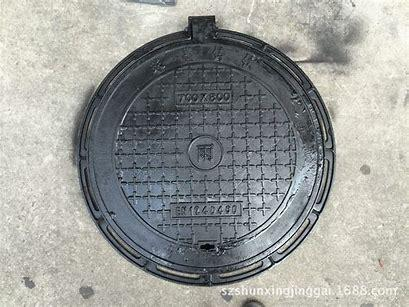wellcover: (90, 11, 325, 285)
